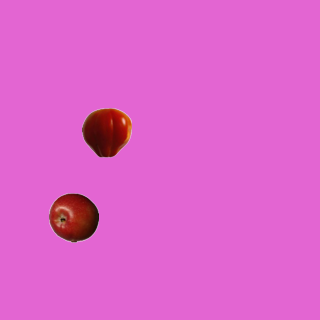Apple Braeburn: (48, 192, 98, 242)
Tomato 1: (81, 107, 131, 157)
